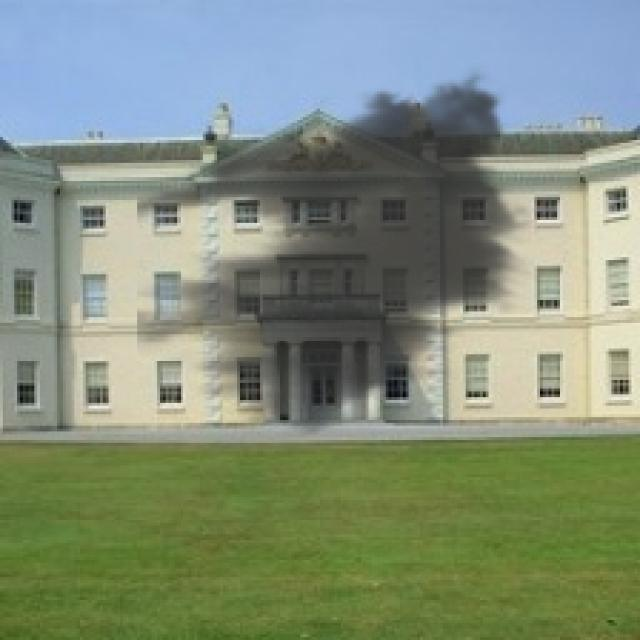Smoke: (137, 63, 540, 446)
